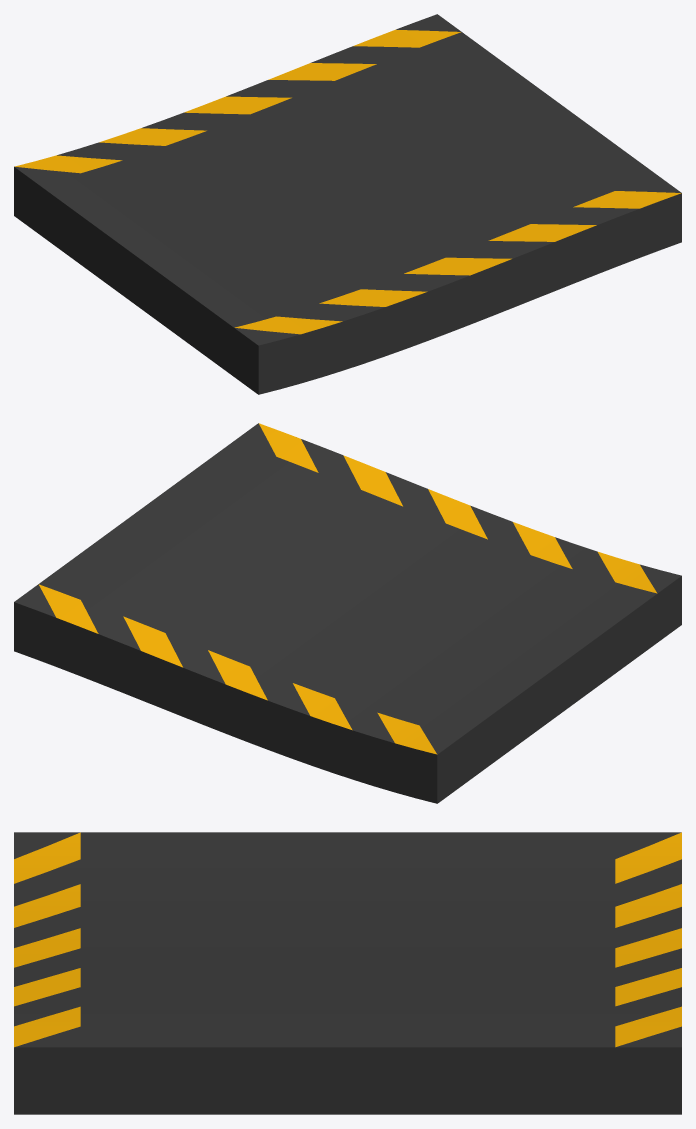
The picture shows the model from 3 angles, top to bottom: view 1: azimuth 30°, elevation 25°; view 2: azimuth 150°, elevation 25°; view 3: azimuth 270°, elevation 25°; orthographic projection. The views are drawn at different scales.
Visible parts, largest first — view 1: d0; view 2: d0; view 3: d0.
Part boxes in pixels (bbox=[...]): d0: bbox=[14, 14, 681, 394]; d0: bbox=[14, 423, 681, 803]; d0: bbox=[14, 832, 681, 1114].
Bounding box in the file's own units: 9 × 2 × 9.
